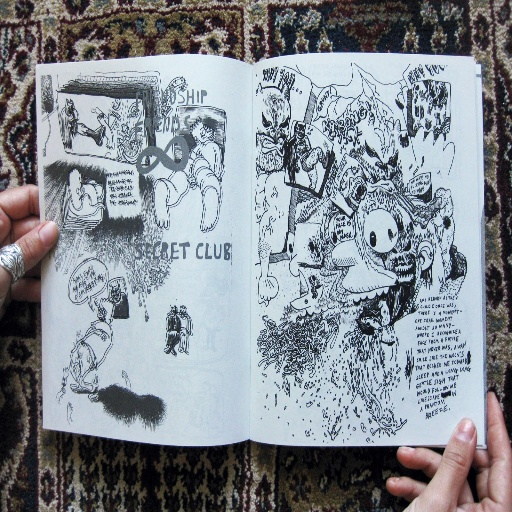hand: (400, 416, 499, 512), (0, 186, 59, 308)
